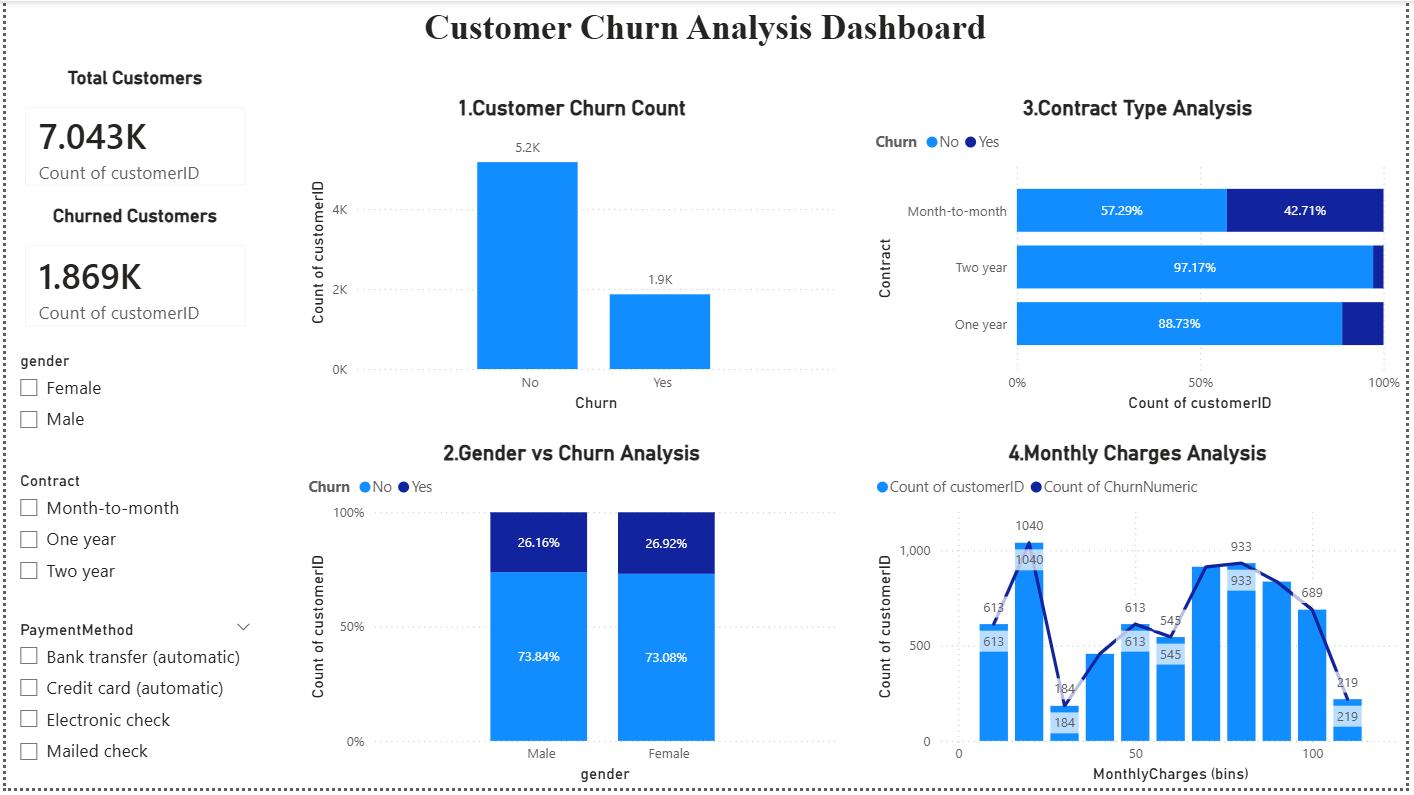

The page's visual inventory and layout, read from the dashboard file:
{"tool":"powerbi","page":{"name":"Page 1","canvas":[1280,720],"ordinal":0},"visuals":[{"type":"clusteredColumnChart","title":"1.Customer Churn Count","fields":{"Category":["WA_Fn-UseC_-Telco-Customer-Churn.Churn"],"Y":["CountNonNull(WA_Fn-UseC_-Telco-Customer-Churn.customerID)"]},"box":[272.1,86.9,491.3,292.9],"z":0},{"type":"hundredPercentStackedColumnChart","title":"2.Gender vs Churn Analysis","fields":{"Category":["WA_Fn-UseC_-Telco-Customer-Churn.gender"],"Y":["CountNonNull(WA_Fn-UseC_-Telco-Customer-Churn.customerID)"],"Series":["WA_Fn-UseC_-Telco-Customer-Churn.Churn"]},"box":[272.1,402.5,491.3,317.5],"z":1},{"type":"hundredPercentStackedBarChart","title":"3.Contract Type Analysis","fields":{"Category":["WA_Fn-UseC_-Telco-Customer-Churn.Contract"],"Series":["WA_Fn-UseC_-Telco-Customer-Churn.Churn"],"Y":["CountNonNull(WA_Fn-UseC_-Telco-Customer-Churn.customerID)"]},"box":[789.9,86.9,489.5,292.9],"z":2},{"type":"textbox","box":[0,0,1279.4,60.5],"z":4},{"type":"lineClusteredColumnComboChart","title":"4.Monthly Charges Analysis","fields":{"Y":["CountNonNull(WA_Fn-UseC_-Telco-Customer-Churn.customerID)"],"Y2":["CountNonNull(WA_Fn-UseC_-Telco-Customer-Churn.ChurnNumeric)"],"Category":["WA_Fn-UseC_-Telco-Customer-Churn.MonthlyCharges (bins)"]},"box":[789.9,402.5,489.5,317.5],"z":5},{"type":"cardVisual","title":"Total Customers","fields":{"Data":["CountNonNull(WA_Fn-UseC_-Telco-Customer-Churn.customerID)"]},"box":[0,60.4,236,126.3],"z":6},{"type":"cardVisual","title":"Churned Customers","fields":{"Data":["CountNonNull(WA_Fn-UseC_-Telco-Customer-Churn.customerID)"]},"box":[0,186.6,236,129],"z":7},{"type":"slicer","fields":{"Values":["WA_Fn-UseC_-Telco-Customer-Churn.gender"]},"box":[0,315.6,236,93.3],"z":8},{"type":"slicer","fields":{"Values":["WA_Fn-UseC_-Telco-Customer-Churn.Contract"]},"box":[0,425.4,236,115.3],"z":9},{"type":"slicer","fields":{"Values":["WA_Fn-UseC_-Telco-Customer-Churn.PaymentMethod"]},"box":[0,561.3,236.2,158.7],"z":10}]}

Visuals, with their boxes in screenshot pixels (x1, y1, x2, y2), scaled from the page's 1280x720 canvas onto the 1414x795 screenshot:
"1.Customer Churn Count" clusteredColumnChart: [301,96,843,419]
"2.Gender vs Churn Analysis" hundredPercentStackedColumnChart: [301,444,843,794]
"3.Contract Type Analysis" hundredPercentStackedBarChart: [873,96,1413,419]
textbox: [0,0,1413,67]
"4.Monthly Charges Analysis" lineClusteredColumnComboChart: [873,444,1413,794]
"Total Customers" cardVisual: [0,67,261,206]
"Churned Customers" cardVisual: [0,206,261,348]
slicer - WA_Fn-UseC_-Telco-Customer-Churn.gender: [0,348,261,451]
slicer - WA_Fn-UseC_-Telco-Customer-Churn.Contract: [0,470,261,597]
slicer - WA_Fn-UseC_-Telco-Customer-Churn.PaymentMethod: [0,620,261,794]
